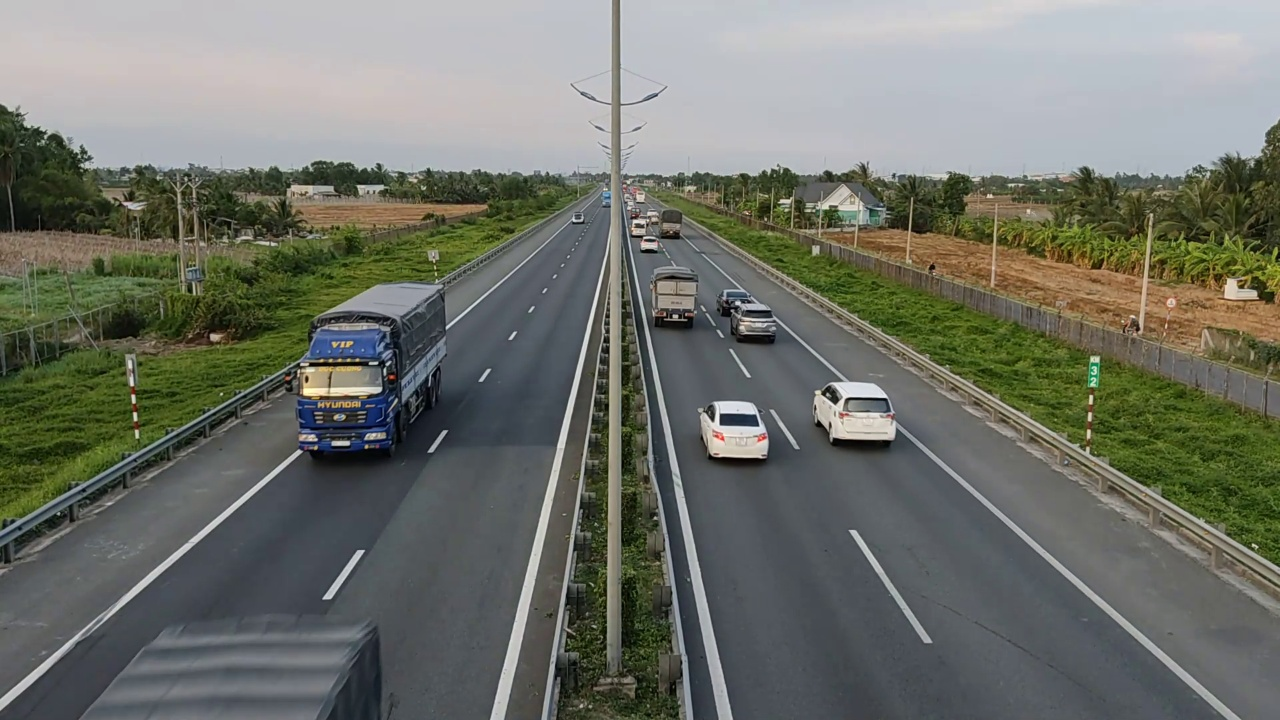car: (812, 380, 897, 445), (697, 400, 769, 460), (729, 302, 777, 344), (716, 289, 758, 315)
truck: (294, 280, 449, 459), (648, 261, 701, 334)
